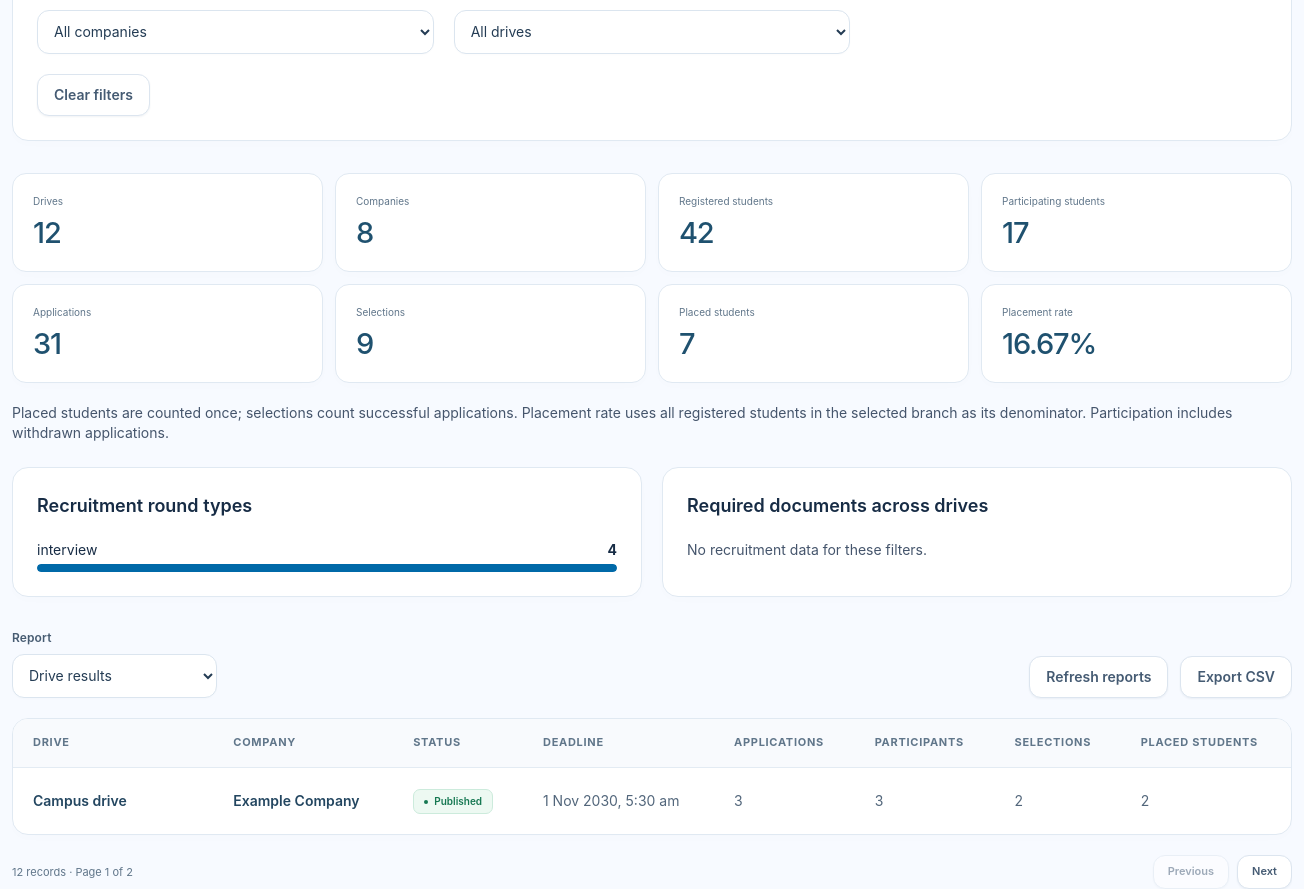
Test: shows loading, authoritative overview totals, recruitment charts and paginated drive results
(page scrolled)
Expected: the link "Campus drive" is shown, [33,792,127,808]
Expected: the text "Recruitment round types" is shown, [37,495,252,516]
Click the button "Next" at (1264, 872), box [1237,855,1292,888]
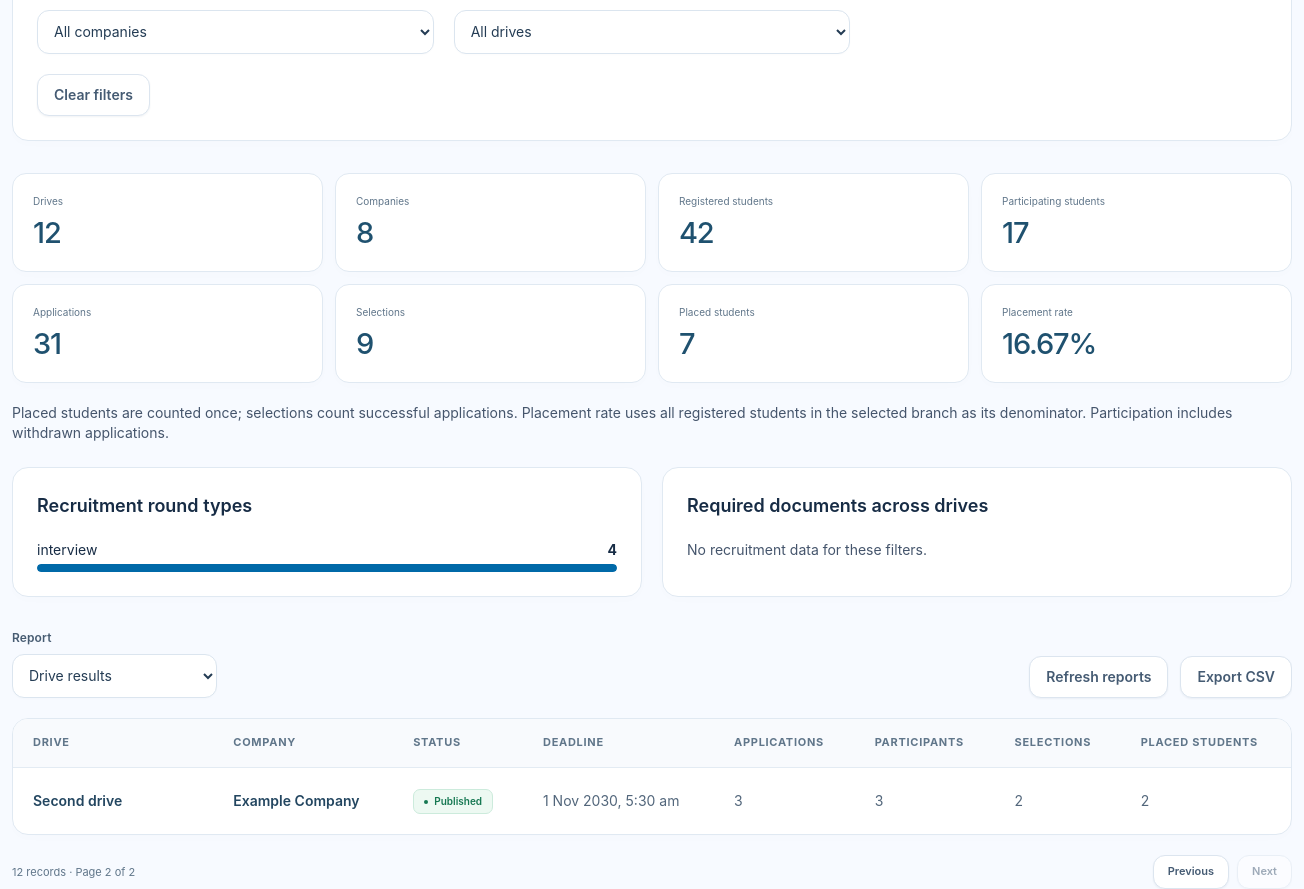
Expected: the link "Second drive" is shown, [33,792,122,808]
